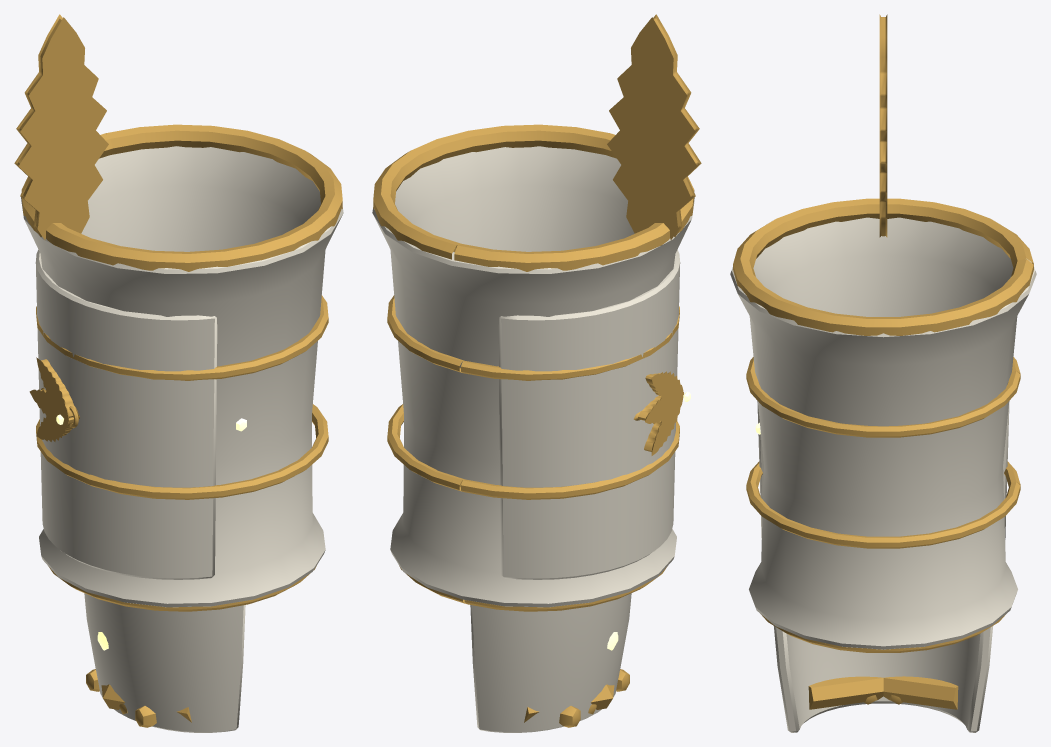
The model's file is asc_dawnward_templar_gloves_R.glb.
The picture shows the model from 3 angles, left to right: view 1: azimuth 30°, elevation 25°; view 2: azimuth 150°, elevation 25°; view 3: azimuth 270°, elevation 25°; orthographic projection. The views are drawn at different scales.
Parts seen in each view (by area): view 1: asc_dawnward_templar_gloves, AT_hand_R; view 2: asc_dawnward_templar_gloves, AT_hand_R; view 3: asc_dawnward_templar_gloves, AT_hand_R.
Part boxes in pixels (x1=…): asc_dawnward_templar_gloves: x1=14, y1=14, x2=343, y2=611; AT_hand_R: x1=84, y1=593, x2=245, y2=732; asc_dawnward_templar_gloves: x1=372, y1=14, x2=701, y2=611; AT_hand_R: x1=470, y1=593, x2=631, y2=732; asc_dawnward_templar_gloves: x1=730, y1=14, x2=1036, y2=652; AT_hand_R: x1=774, y1=626, x2=992, y2=732.
Bounding box in the file's own units: 0.2155 × 0.4777 × 0.2004.
